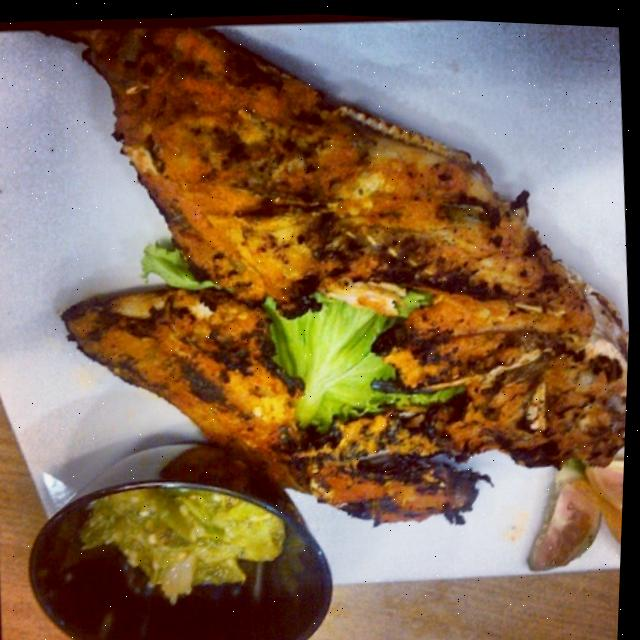鸡肉料理 含炸鸡: (13, 12, 640, 616)
